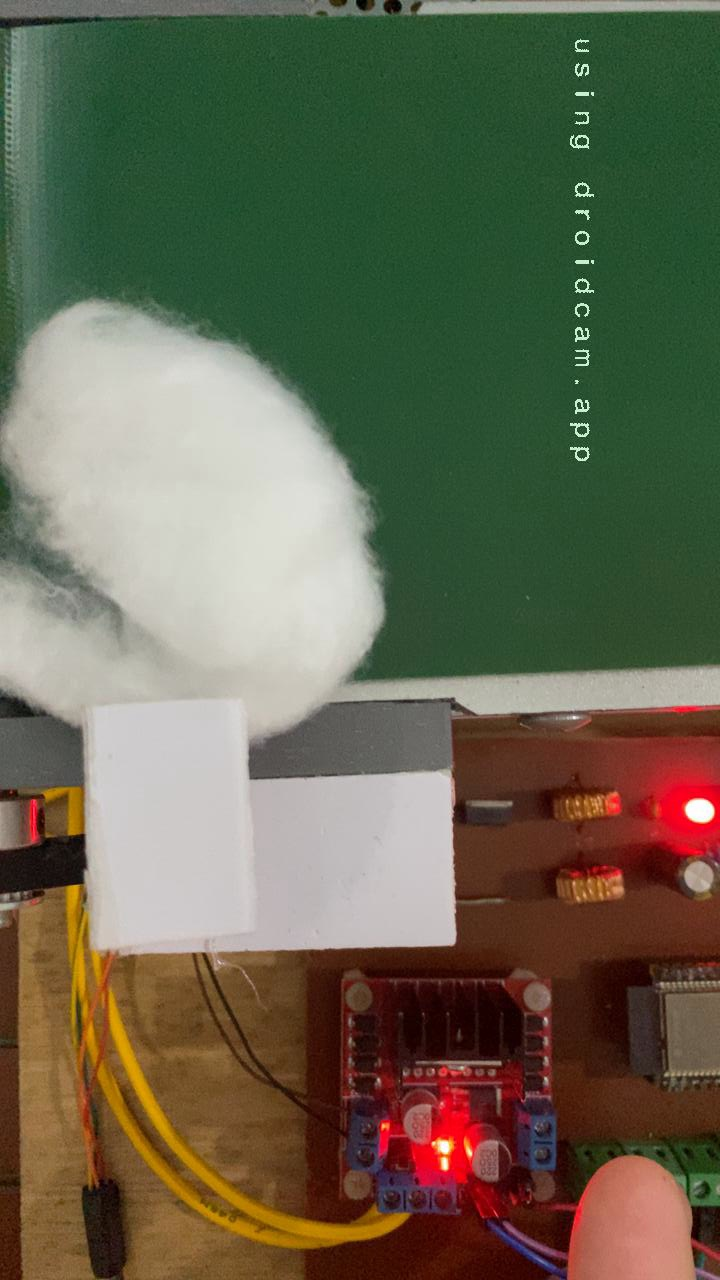cotton: (0, 293, 393, 666)
